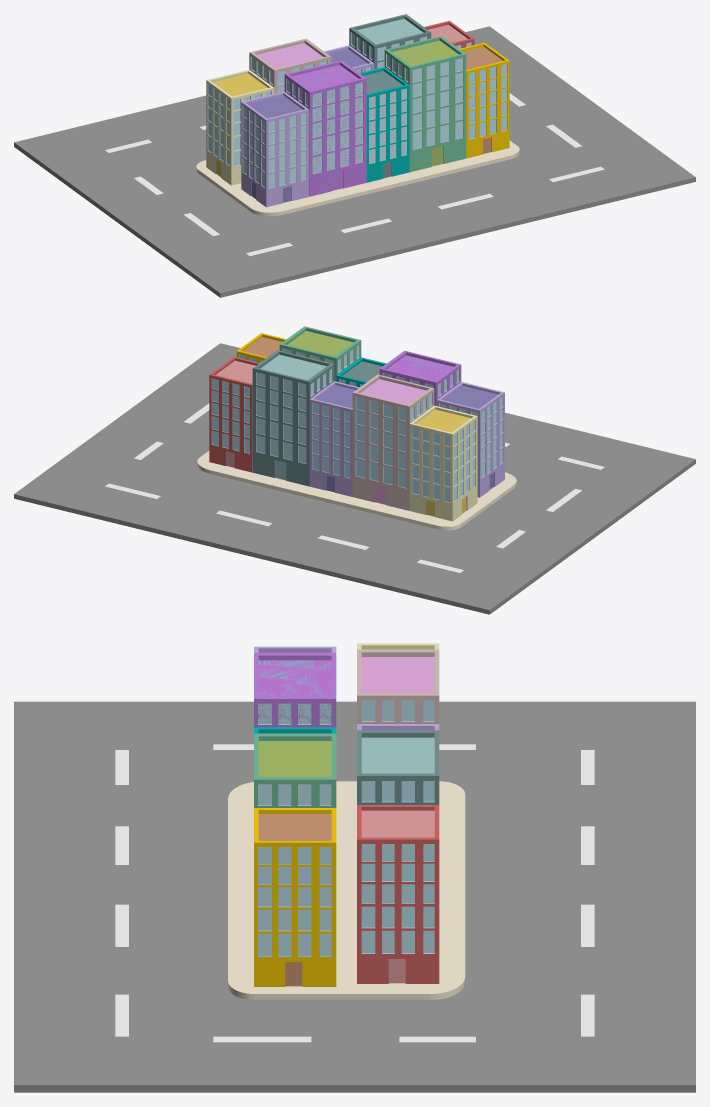
Rendered from low poly City.fbx.
3 renders of one model, top to bottom at view 1: azimuth 30°, elevation 25°; view 2: azimuth 150°, elevation 25°; view 3: azimuth 270°, elevation 25°, orthographic. The views are drawn at different scales.
Parts seen in each view (by area): view 1: SketchUp, group_5.012, group_1.012, group_12.012, group_2, group_10.012, group_7.012, group_11.012, group_6.012, group_4.012, group_4.014, group_5.014 (+7 smaller); view 2: SketchUp, group_6.012, group_4.012, group_7.012, group_3, group_8.012, group_9.012, group_12.012, group_5.012, group_1.012, group_4.014, group_1.014 (+9 smaller); view 3: SketchUp, group_3, group_2, group_8.012, group_10.012, group_5.014, group_6.014, group_1.014, group_4.014, group_4.012, group_1.012, group_6.012 (+4 smaller).
Part boxes in pixels (x1=…): SketchUp: x1=14, y1=26, x2=695, y2=297; group_5.012: x1=284, y1=60, x2=366, y2=196; group_1.012: x1=384, y1=36, x2=466, y2=172; group_12.012: x1=241, y1=91, x2=309, y2=207; group_2: x1=226, y1=140, x2=519, y2=216; group_10.012: x1=459, y1=42, x2=509, y2=158; group_7.012: x1=206, y1=69, x2=274, y2=185; group_11.012: x1=359, y1=67, x2=409, y2=182; group_6.012: x1=349, y1=14, x2=431, y2=69; group_4.012: x1=249, y1=38, x2=331, y2=93; group_4.014: x1=257, y1=43, x2=323, y2=68; group_5.014: x1=292, y1=65, x2=358, y2=90; SketchUp: x1=14, y1=343, x2=695, y2=614; group_6.012: x1=252, y1=350, x2=334, y2=486; group_4.012: x1=352, y1=374, x2=434, y2=510; group_7.012: x1=409, y1=405, x2=477, y2=521; group_3: x1=197, y1=451, x2=488, y2=530; group_8.012: x1=209, y1=356, x2=259, y2=472; group_9.012: x1=309, y1=381, x2=359, y2=496; group_12.012: x1=436, y1=382, x2=504, y2=497; group_5.012: x1=379, y1=350, x2=461, y2=405; group_1.012: x1=279, y1=326, x2=361, y2=381; group_4.014: x1=360, y1=379, x2=426, y2=404; group_1.014: x1=287, y1=331, x2=353, y2=356; SketchUp: x1=14, y1=701, x2=695, y2=1092; group_3: x1=346, y1=781, x2=465, y2=999; group_2: x1=228, y1=781, x2=346, y2=999; group_8.012: x1=357, y1=805, x2=439, y2=983; group_10.012: x1=254, y1=808, x2=336, y2=986; group_5.014: x1=258, y1=660, x2=331, y2=696; group_6.014: x1=361, y1=737, x2=434, y2=773; group_1.014: x1=258, y1=741, x2=331, y2=776; group_4.014: x1=361, y1=657, x2=434, y2=692; group_4.012: x1=357, y1=649, x2=439, y2=723; group_1.012: x1=254, y1=733, x2=336, y2=807; group_6.012: x1=357, y1=730, x2=439, y2=804.
Bounding box in the file's own units: 7473 × 1695 × 5615.
